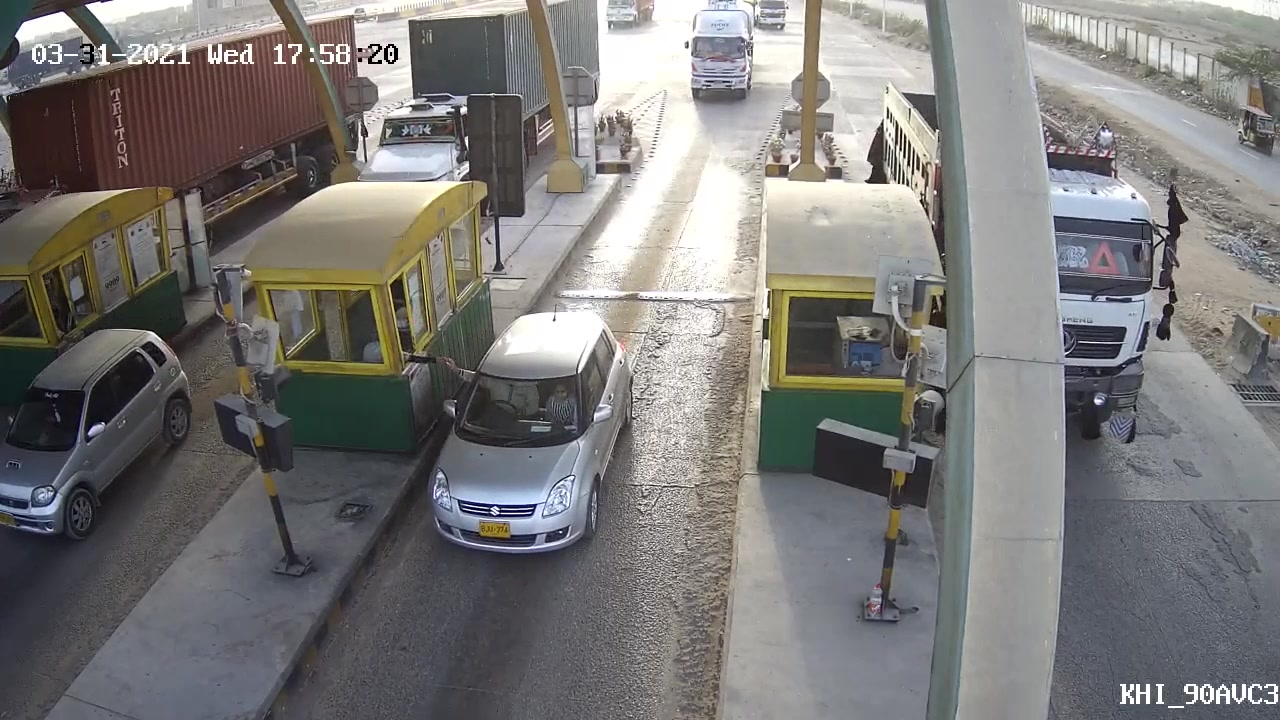F1: (417, 298, 642, 561)
